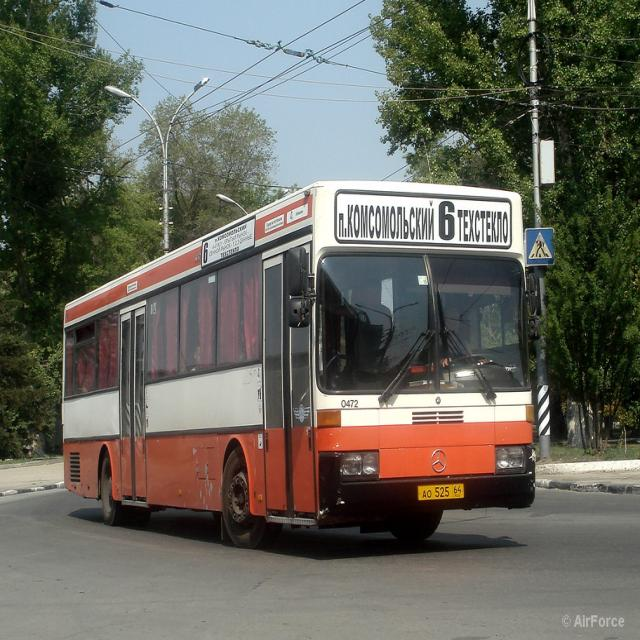number-of-bus: (438, 197, 458, 248), (438, 197, 458, 247), (203, 239, 211, 271)
